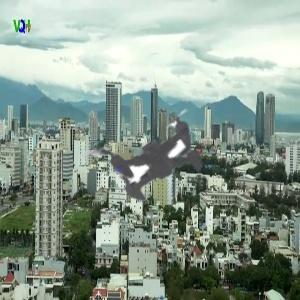drone: (54, 51, 274, 271)
